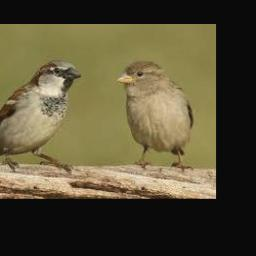Sparrow: (0, 60, 81, 171), (115, 61, 194, 173)
